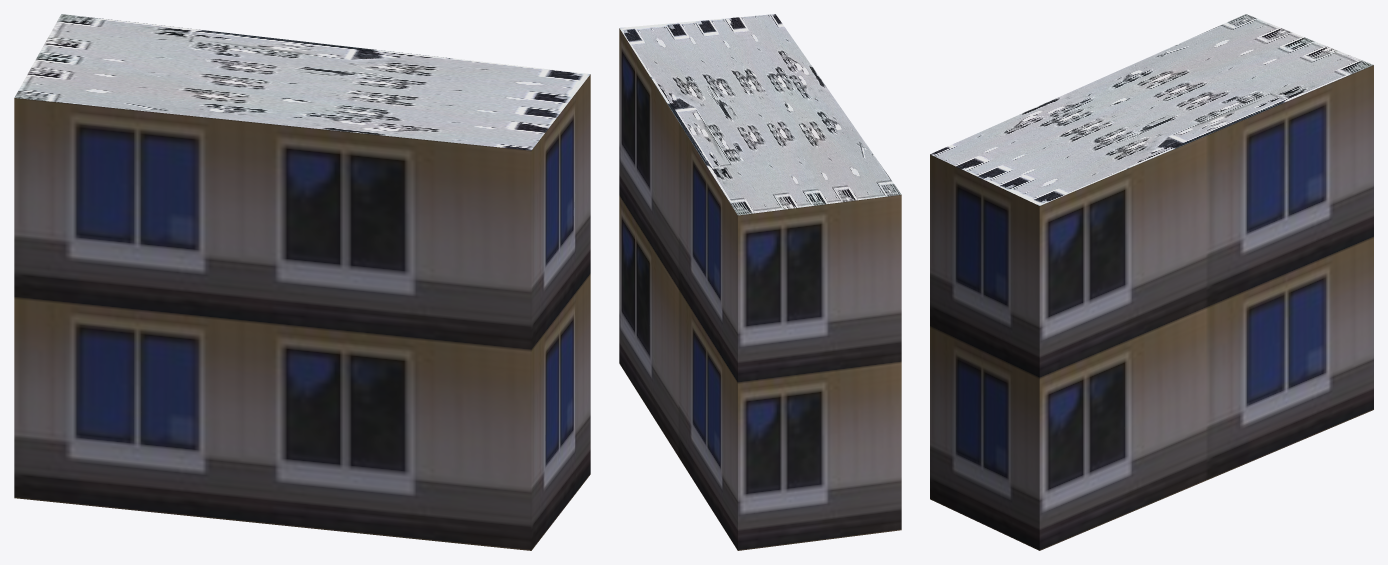
Rendered from ResTex__4109.fbx.
The picture shows the model from 3 angles, left to right: view 1: azimuth 30°, elevation 25°; view 2: azimuth 150°, elevation 25°; view 3: azimuth 270°, elevation 25°; orthographic projection. The views are drawn at different scales.
Parts seen in each view (by area): view 1: CityEngineMaterial_5_m, CityEngineMaterial_8_m; view 2: CityEngineMaterial_5_m, CityEngineMaterial_8_m; view 3: CityEngineMaterial_5_m, CityEngineMaterial_8_m.
Part boxes in pixels (bbox=[...]): CityEngineMaterial_5_m: bbox=[14, 74, 590, 550]; CityEngineMaterial_8_m: bbox=[14, 14, 590, 150]; CityEngineMaterial_5_m: bbox=[619, 28, 901, 550]; CityEngineMaterial_8_m: bbox=[619, 14, 901, 215]; CityEngineMaterial_5_m: bbox=[930, 65, 1373, 550]; CityEngineMaterial_8_m: bbox=[930, 14, 1373, 205].
Bounding box in the file's own units: 7.16 × 6 × 7.
Materials: 2 (2 with a texture image).
